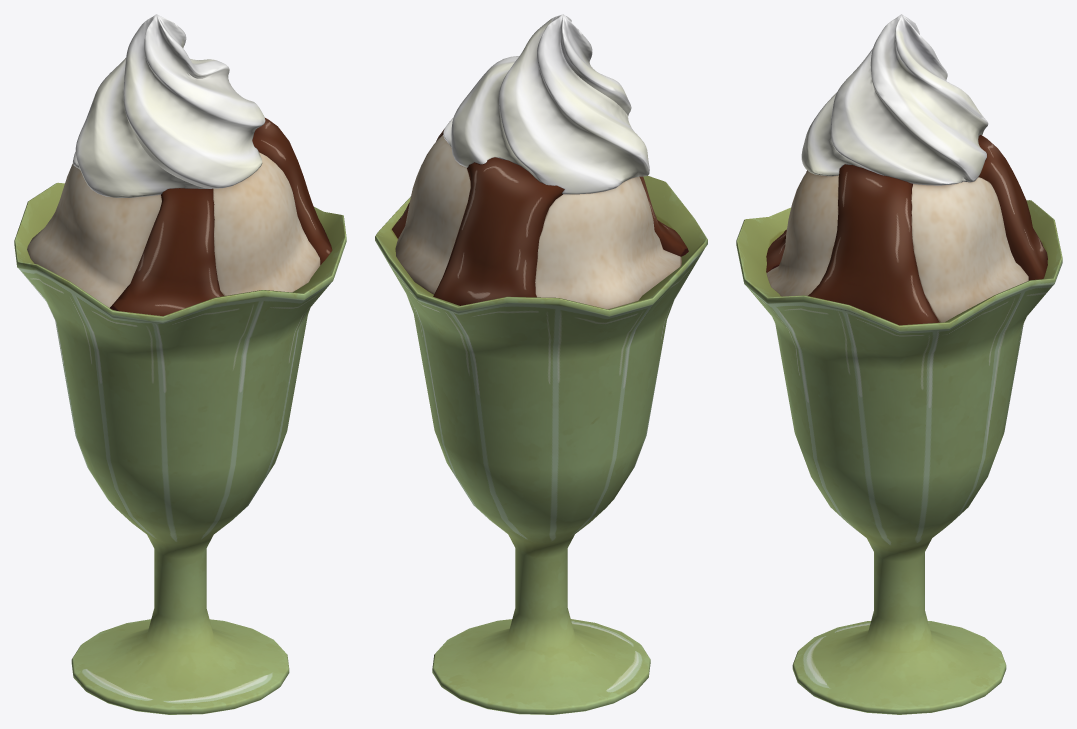
File: sundae.obj
The picture shows the model from 3 angles, left to right: view 1: azimuth 30°, elevation 25°; view 2: azimuth 150°, elevation 25°; view 3: azimuth 270°, elevation 25°; orthographic projection. The views are drawn at different scales.
Visible parts, largest first — view 1: obj2, obj4, obj3, obj1; view 2: obj2, obj4, obj3, obj1; view 3: obj2, obj4, obj3, obj1.
Boxes of the visible parts, <box> form: obj2: <box>14,182,346,714</box>; obj4: <box>73,14,265,197</box>; obj3: <box>27,152,320,307</box>; obj1: <box>110,118,332,315</box>; obj2: <box>375,175,707,714</box>; obj4: <box>443,14,649,194</box>; obj3: <box>395,135,681,309</box>; obj1: <box>392,129,688,305</box>; obj2: <box>736,200,1062,714</box>; obj4: <box>801,14,988,185</box>; obj3: <box>766,171,1028,322</box>; obj1: <box>766,135,1047,325</box>.
Bounding box in the file's own units: 17.24 × 37.62 × 17.24.
Materials: 1 (1 with a texture image).
